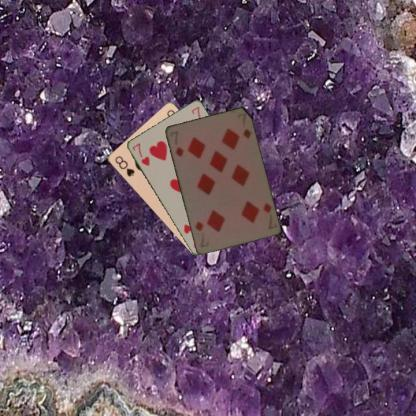7d: (167, 128, 185, 158), (260, 201, 278, 230)
7h: (129, 140, 151, 166)
8s: (112, 153, 136, 178)
